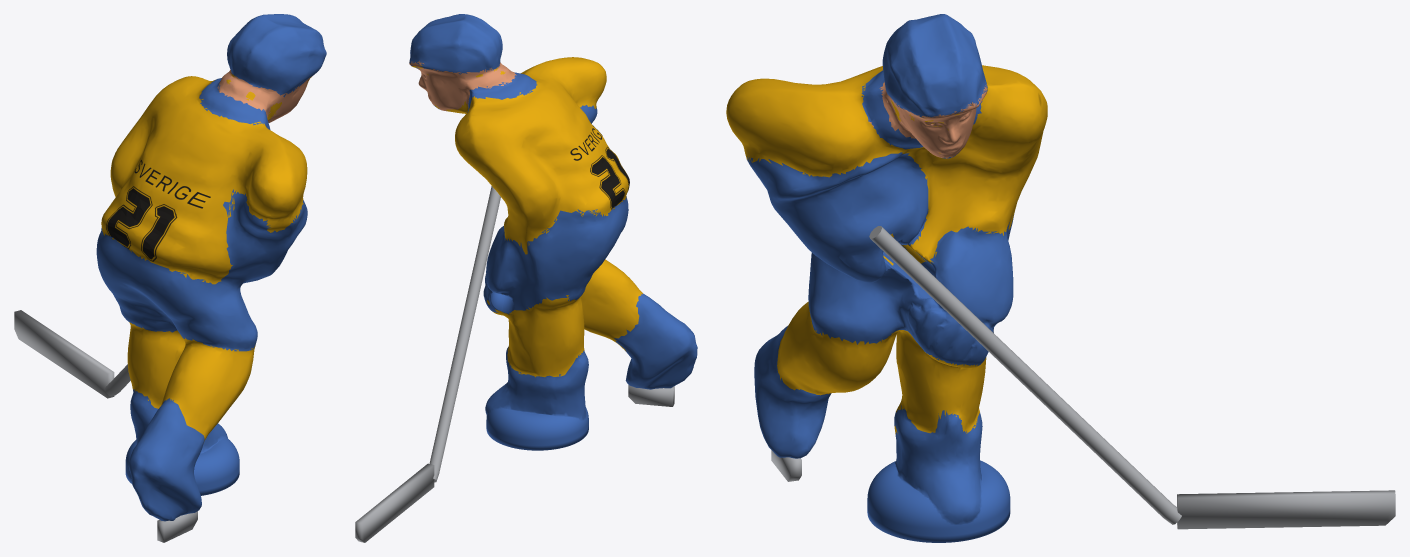
Rendered from skater_stl_SWE.glb.
The picture shows the model from 3 angles, left to right: view 1: azimuth 30°, elevation 25°; view 2: azimuth 150°, elevation 25°; view 3: azimuth 270°, elevation 25°; orthographic projection. The views are drawn at different scales.
Parts seen in each view (by area): view 1: Skater.SWE, Print.skater.SWE; view 2: Skater.SWE, Print.skater.SWE; view 3: Skater.SWE.
Part boxes in pixels (x1,y1,x2,y2): Skater.SWE: (14,14,326,542); Print.skater.SWE: (106,160,210,261); Skater.SWE: (355,14,697,542); Print.skater.SWE: (570,125,629,209); Skater.SWE: (726,14,1395,542).
Size of the model in its own units: 0.0345 by 0.0574 by 0.0637.
5 materials, 1 textured.
